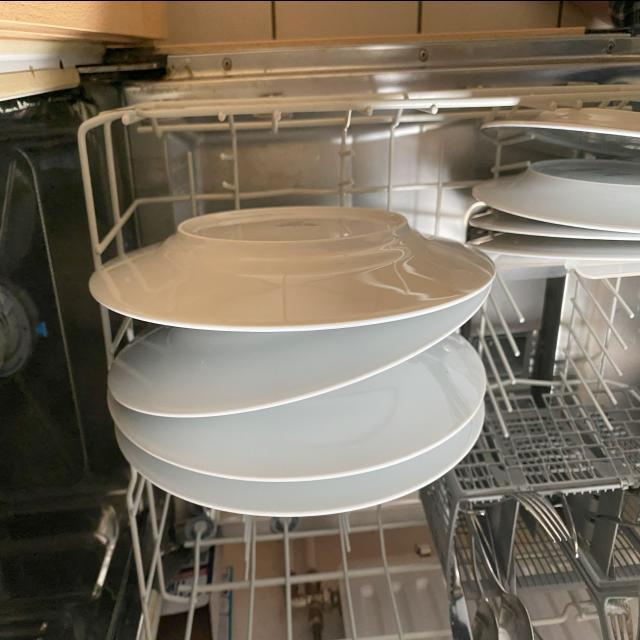clutery_bin: (454, 498, 639, 613)
empty_slot: (109, 119, 427, 196), (496, 263, 630, 432)
